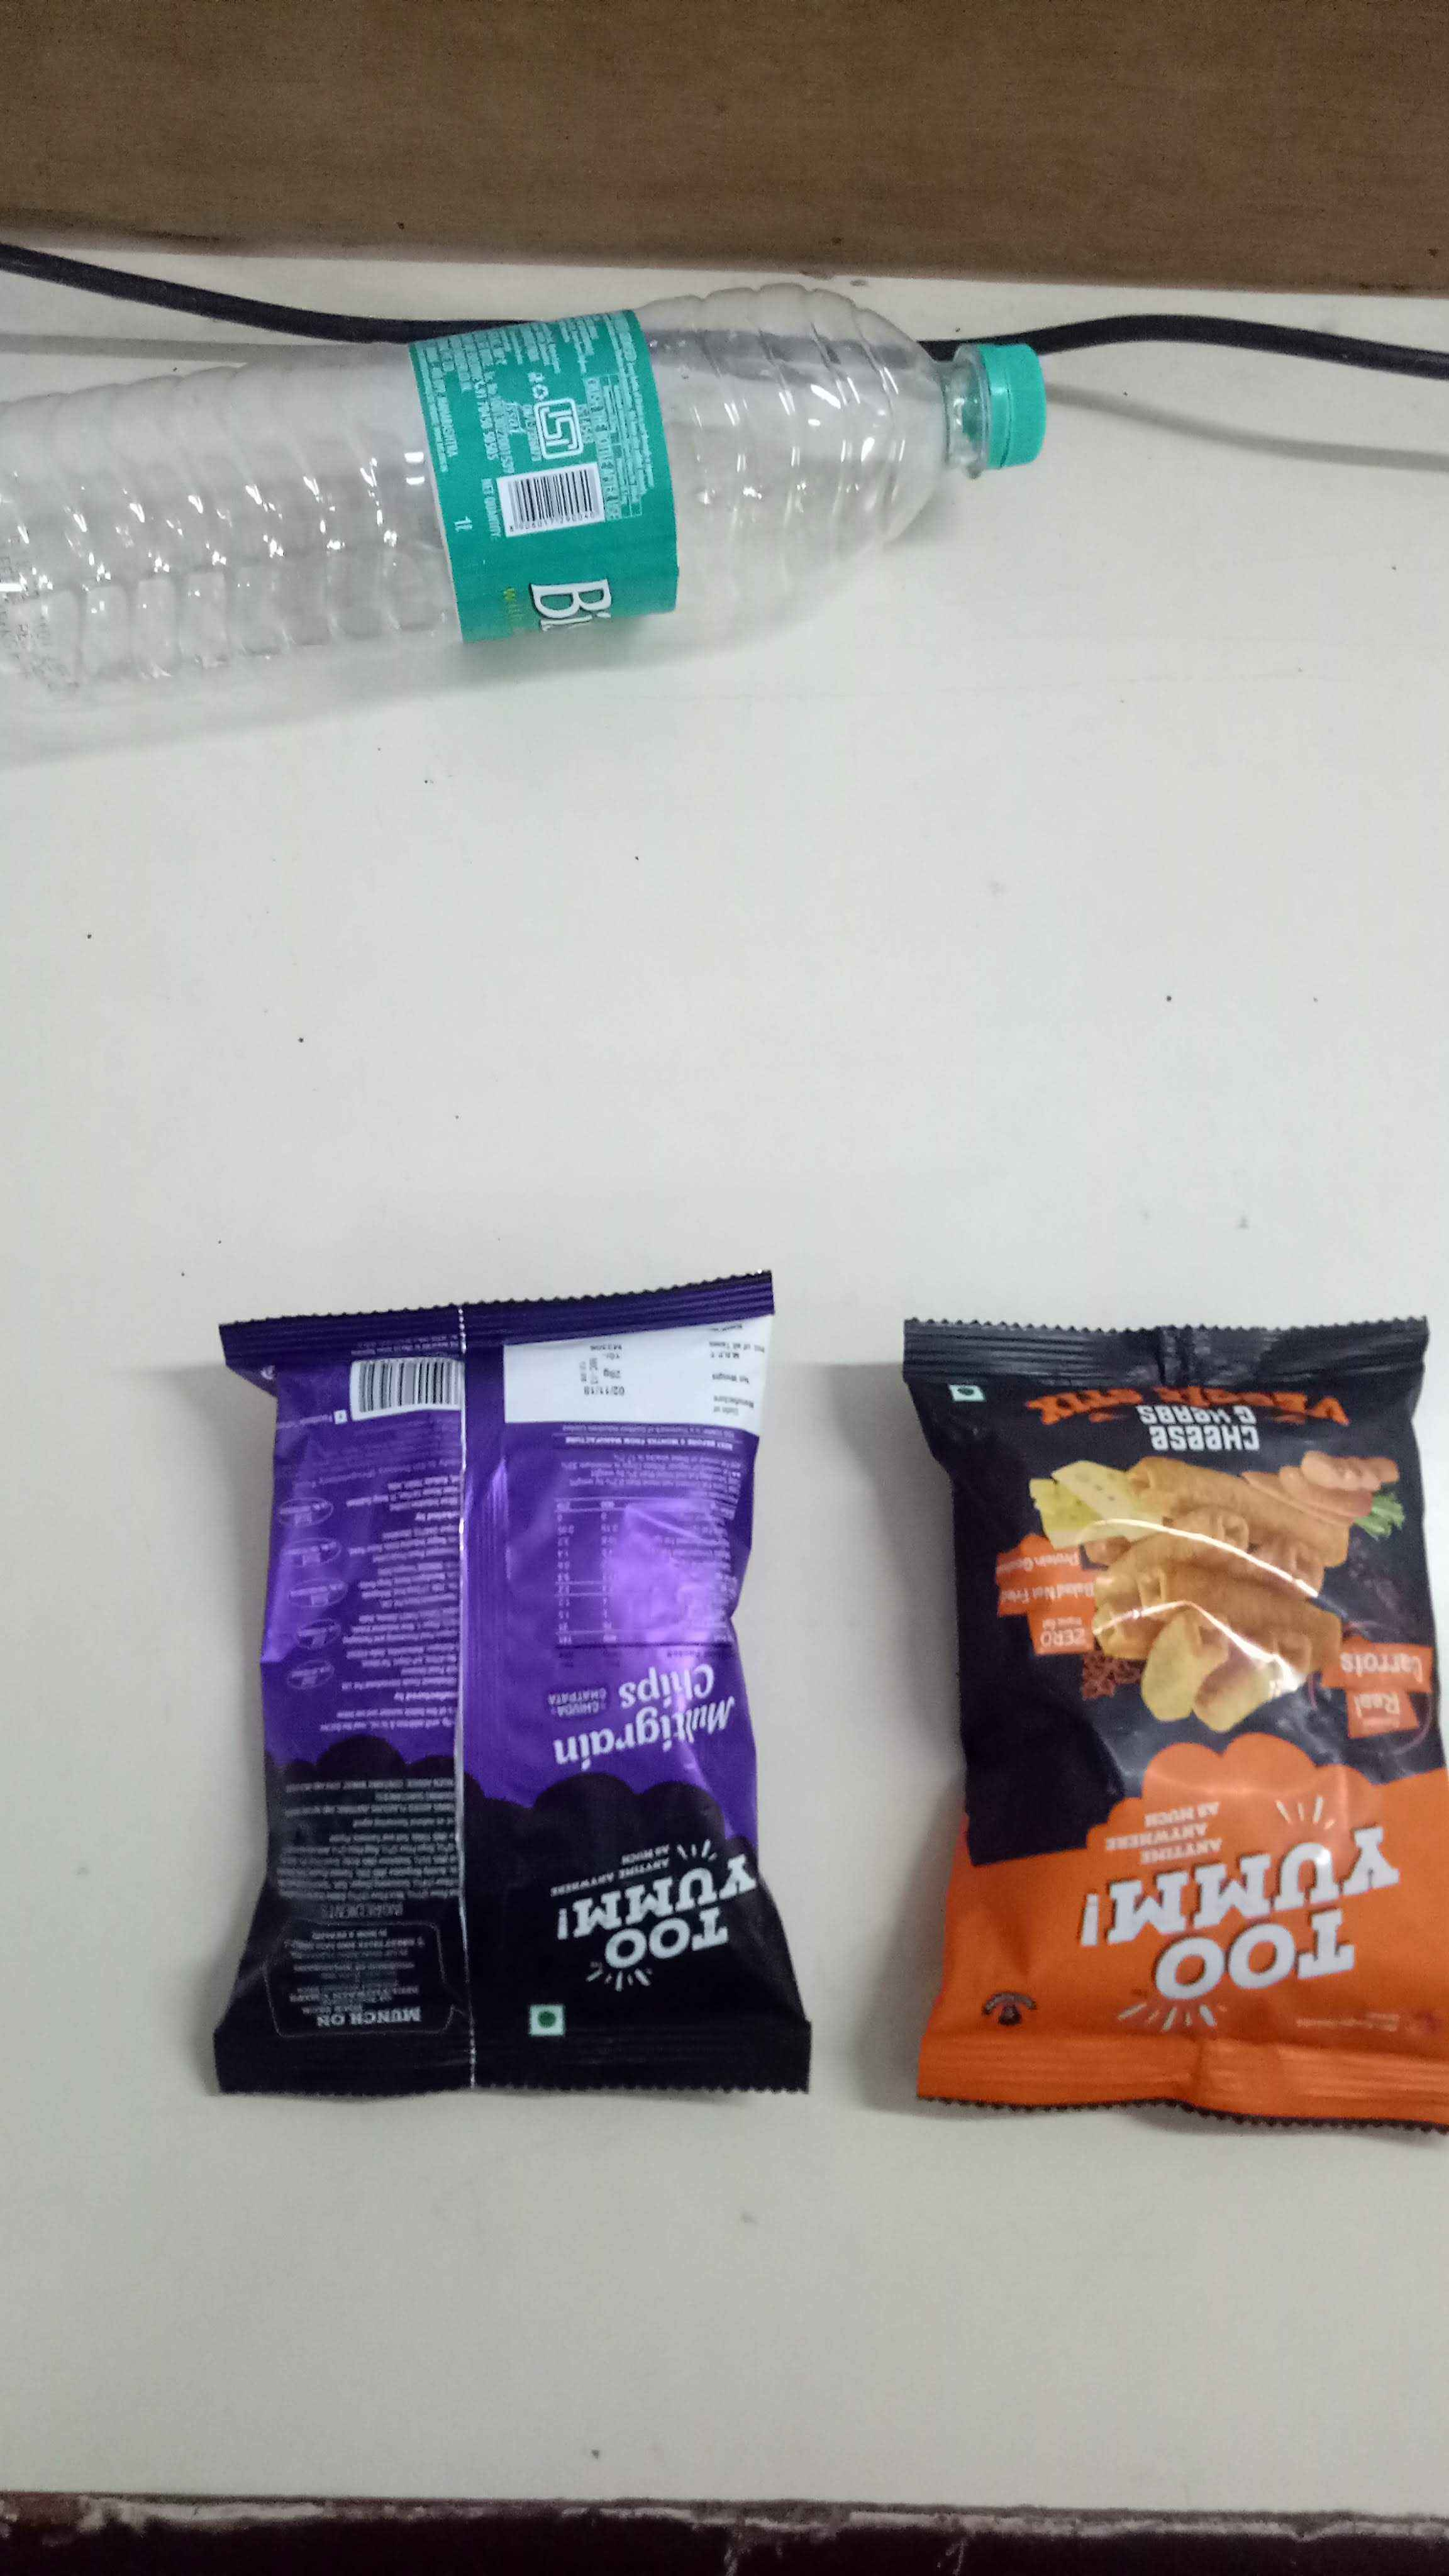Bisleri: (469, 366, 717, 630)
tooyumm: (1039, 1808, 1431, 2020), (524, 1844, 798, 1989)
